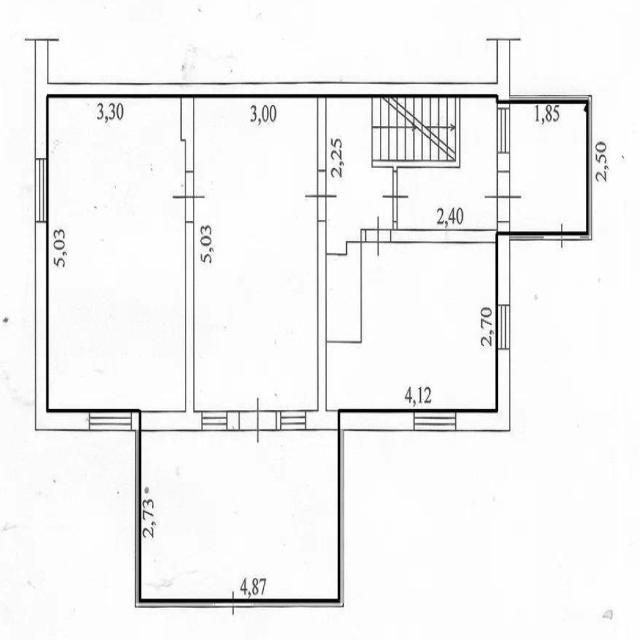Corridors: (141, 432, 337, 600), (399, 97, 497, 229), (511, 104, 585, 229)
Doors: (484, 170, 524, 220), (238, 396, 277, 447), (173, 171, 208, 223), (379, 170, 412, 224), (303, 170, 337, 221), (213, 589, 252, 621), (365, 217, 392, 258), (544, 222, 580, 251)
LBwalls: (22, 35, 523, 158), (34, 223, 90, 432), (327, 98, 392, 254), (456, 349, 511, 432), (326, 240, 362, 343), (305, 409, 414, 431), (132, 410, 203, 433), (497, 222, 510, 306), (227, 411, 239, 432), (497, 153, 510, 172), (276, 410, 282, 432)
Offices: (48, 98, 184, 410), (194, 97, 316, 410), (327, 243, 495, 409)
Stairs: (371, 99, 456, 161)
Walls: (252, 430, 345, 608), (134, 430, 213, 608), (510, 93, 592, 241), (371, 96, 461, 174), (390, 221, 497, 243), (318, 220, 327, 411), (185, 222, 194, 412), (318, 97, 326, 170), (185, 141, 194, 172), (511, 234, 545, 240), (360, 228, 366, 242)
Windows: (414, 409, 456, 432), (89, 410, 132, 431), (35, 158, 48, 223), (496, 304, 510, 349), (497, 108, 510, 153), (202, 411, 227, 431), (281, 411, 306, 431)
